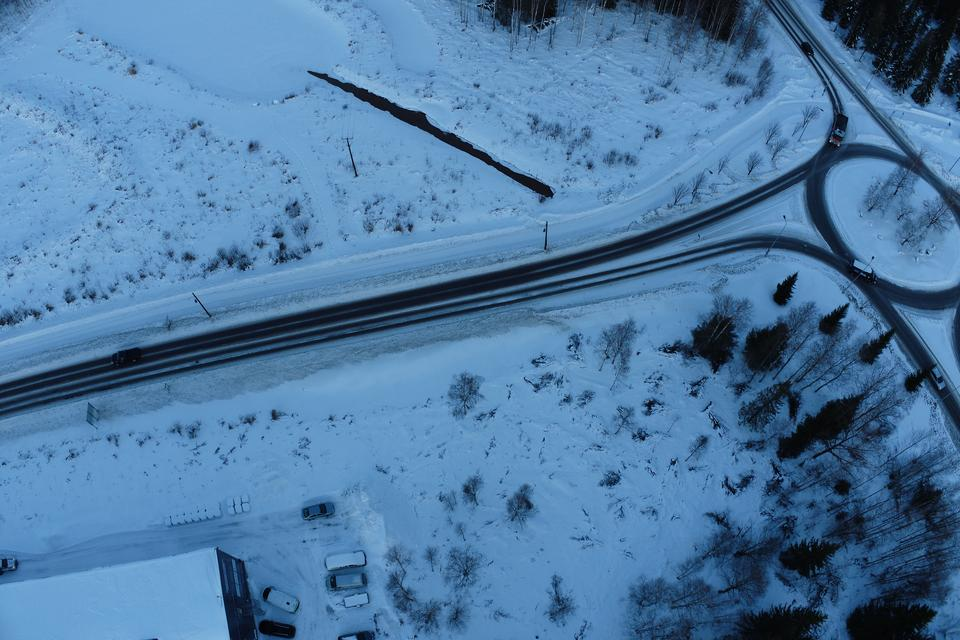roundabout: (775, 100, 960, 341)
